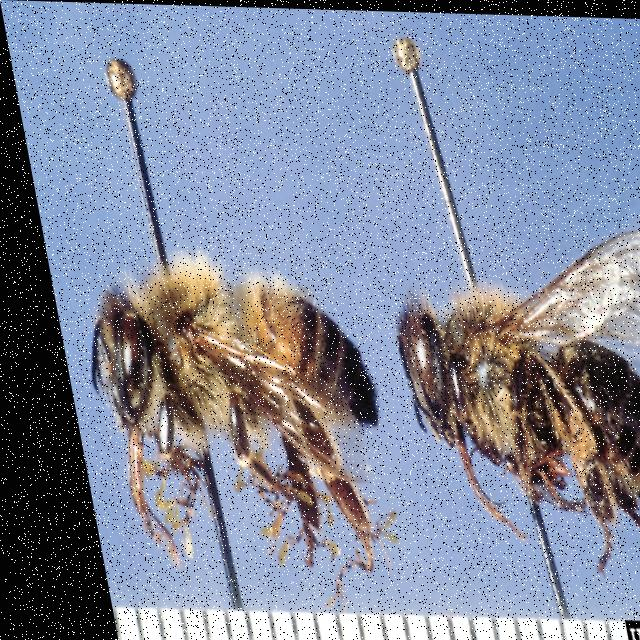Apis-mellifera-scutellata: (51, 233, 397, 611), (366, 209, 640, 582)
